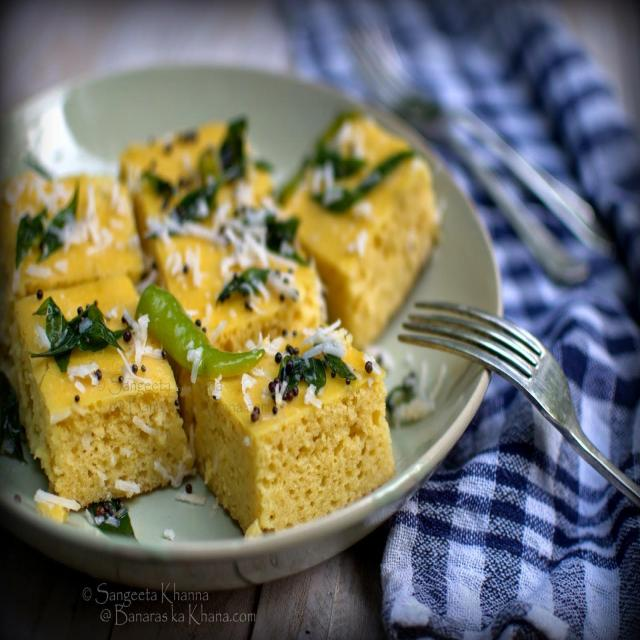dhokla: (17, 127, 440, 523)
